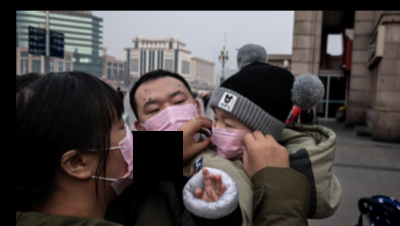with_mask: (91, 117, 142, 195), (138, 88, 199, 151), (212, 108, 251, 158)
